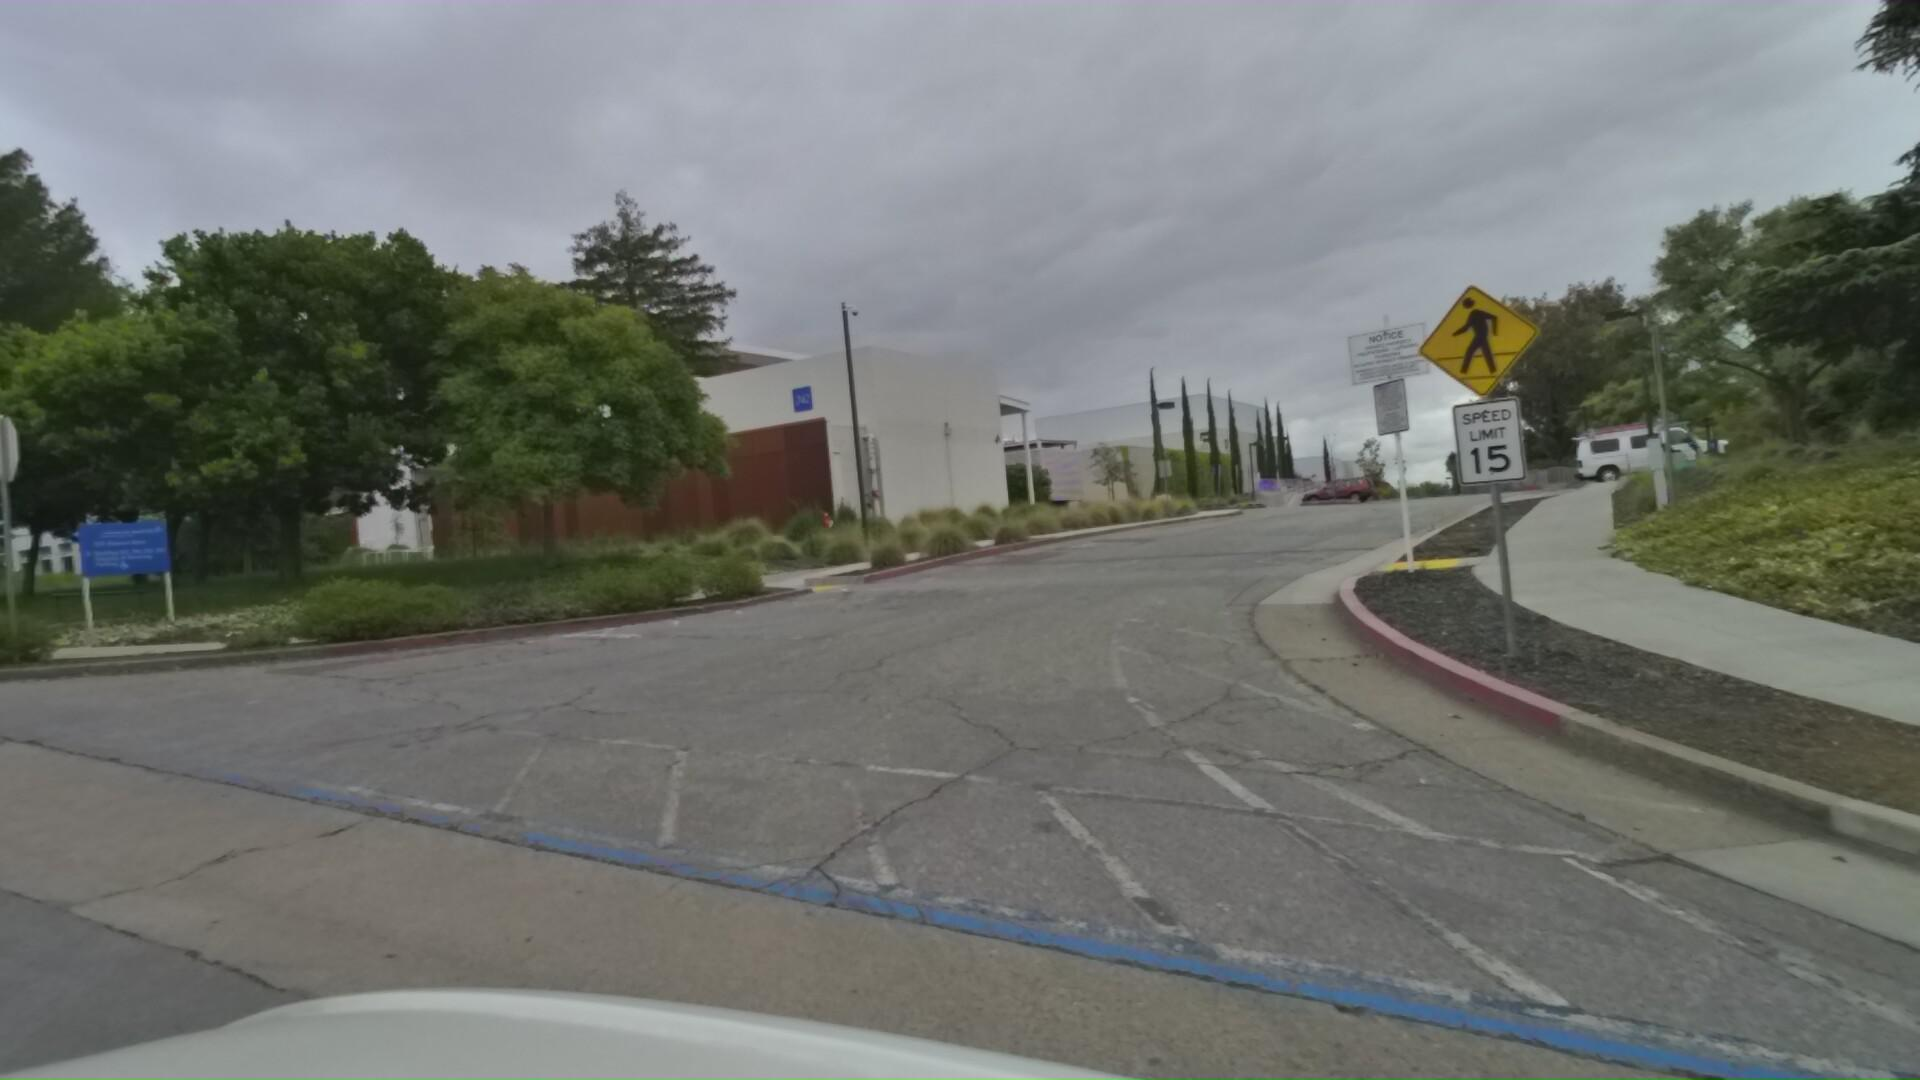car: (1575, 400, 1737, 476), (1300, 465, 1385, 502)
other_vehicle: (1647, 401, 1731, 469)
